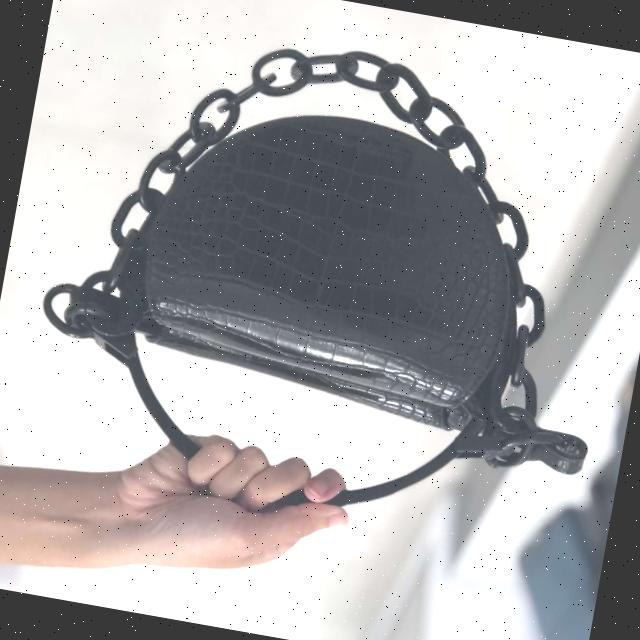Handbag: (13, 0, 640, 558)
